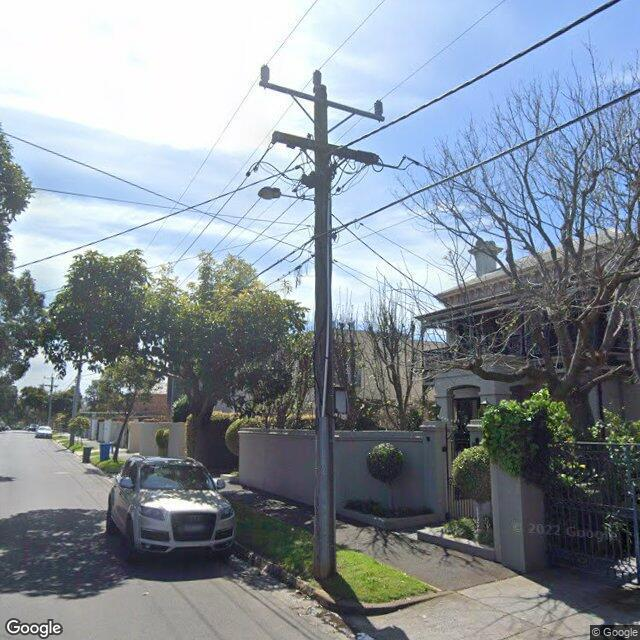HV-transmission: (258, 65, 385, 121), (43, 373, 60, 380)
crossarm: (244, 130, 384, 193), (259, 80, 377, 120), (42, 383, 58, 388), (46, 377, 56, 379)
streetlight: (258, 186, 315, 201)
timber-pole: (310, 84, 336, 583), (70, 356, 82, 447), (49, 376, 54, 417)
